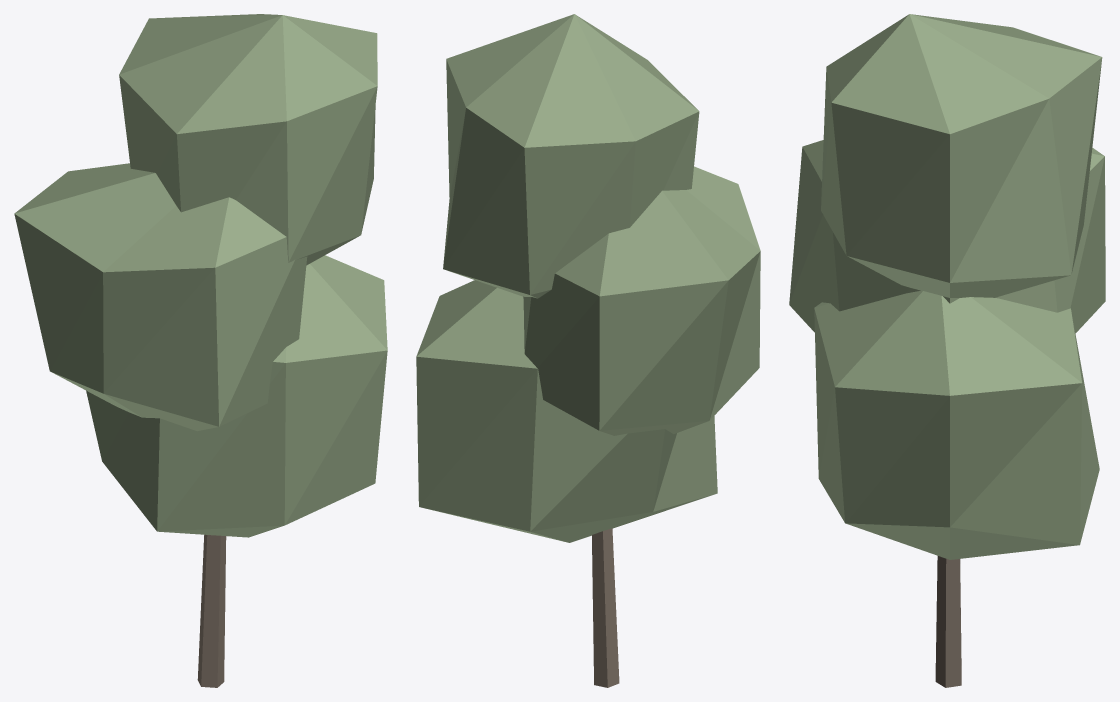
File: sapling-0.glb
3 renders of one model, left to right at view 1: azimuth 30°, elevation 25°; view 2: azimuth 150°, elevation 25°; view 3: azimuth 270°, elevation 25°, orthographic. The views are drawn at different scales.
Bounding box in the file's own units: 2.63 × 5.02 × 2.07.
